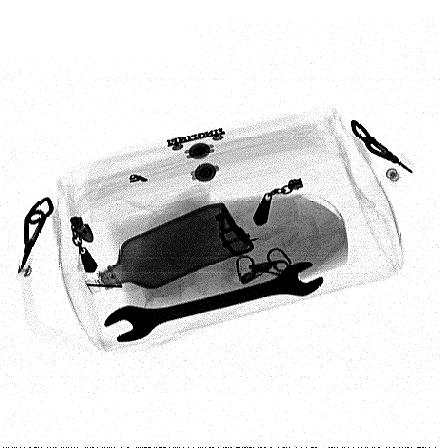Wrench: (102, 260, 324, 343)
